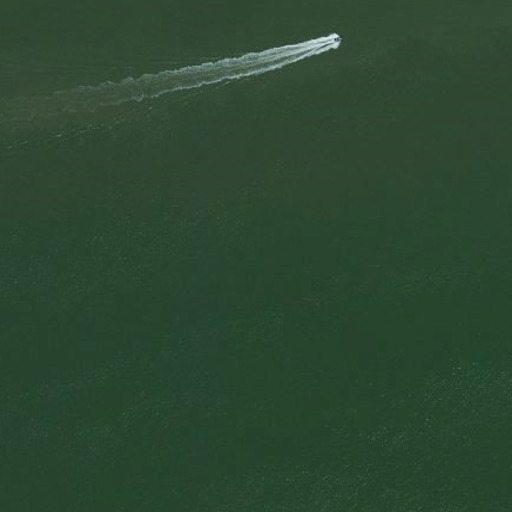ship: (333, 35, 345, 43)
